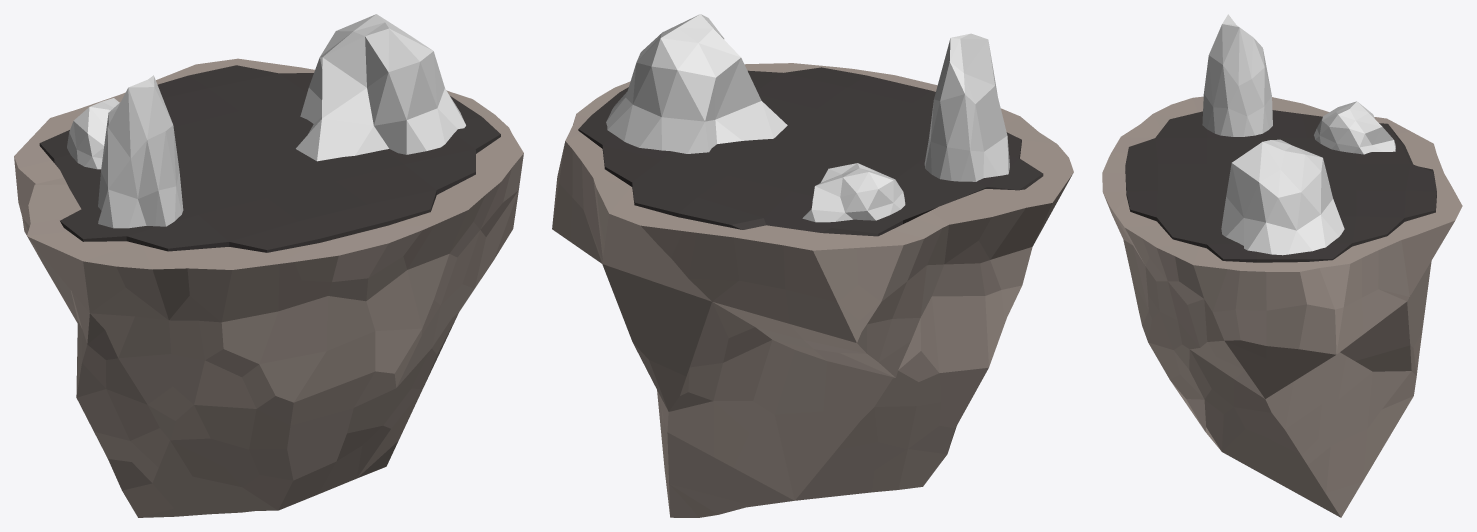
The model's file is Medium_Island_2.fbx.
3 renders of one model, left to right at view 1: azimuth 30°, elevation 25°; view 2: azimuth 150°, elevation 25°; view 3: azimuth 270°, elevation 25°, orthographic. The views are drawn at different scales.
Parts seen in each view (by area): view 1: Icosphere, Icosphere.003, Icosphere.001, Icosphere.004; view 2: Icosphere, Icosphere.003, Icosphere.001, Icosphere.004; view 3: Icosphere, Icosphere.003, Icosphere.001, Icosphere.004.
Boxes of the visible parts, box(x1,y1,x2,y2) form: Icosphere: box(14, 58, 523, 517); Icosphere.003: box(296, 14, 465, 161); Icosphere.001: box(98, 75, 183, 228); Icosphere.004: box(67, 98, 119, 169); Icosphere: box(552, 63, 1073, 517); Icosphere.003: box(606, 14, 787, 153); Icosphere.001: box(924, 33, 1009, 181); Icosphere.004: box(802, 163, 905, 222); Icosphere: box(1102, 96, 1462, 517); Icosphere.003: box(1221, 139, 1344, 255); Icosphere.001: box(1202, 14, 1272, 136); Icosphere.004: box(1314, 101, 1395, 154).
Size of the model in its own units: 64.34 by 66.73 by 54.02.
